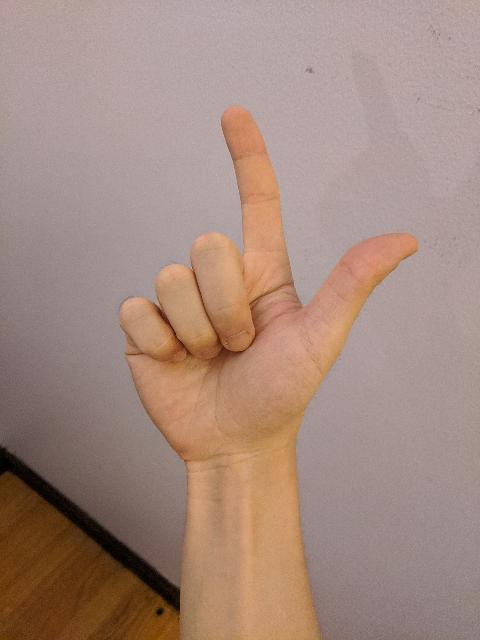L: (112, 98, 426, 472)
